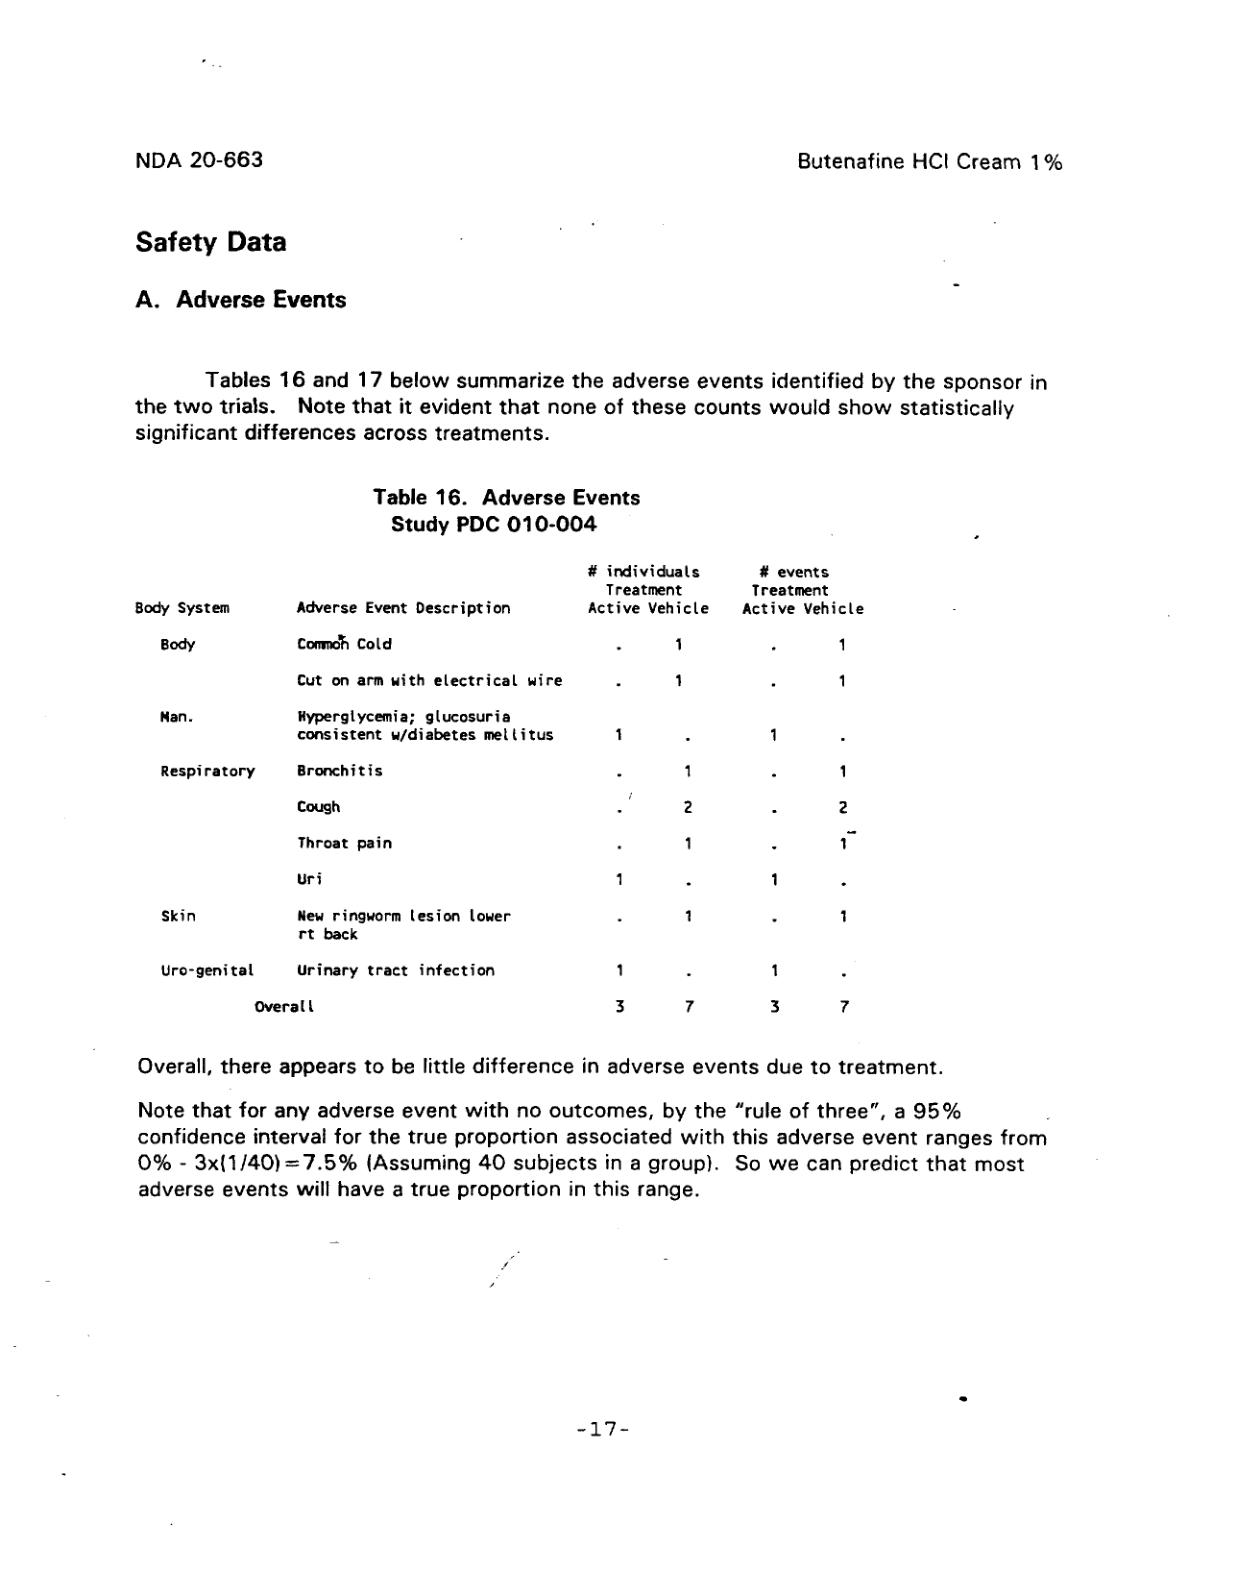nolines: (132, 566, 864, 1016)
